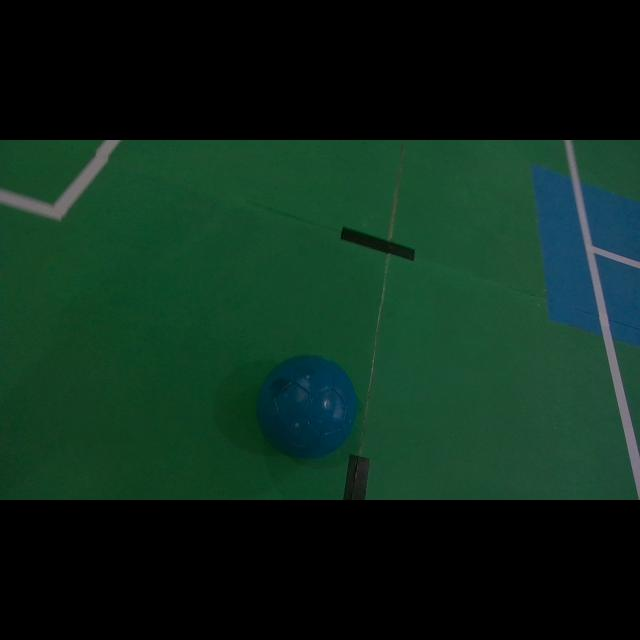B: (258, 356, 358, 459)
